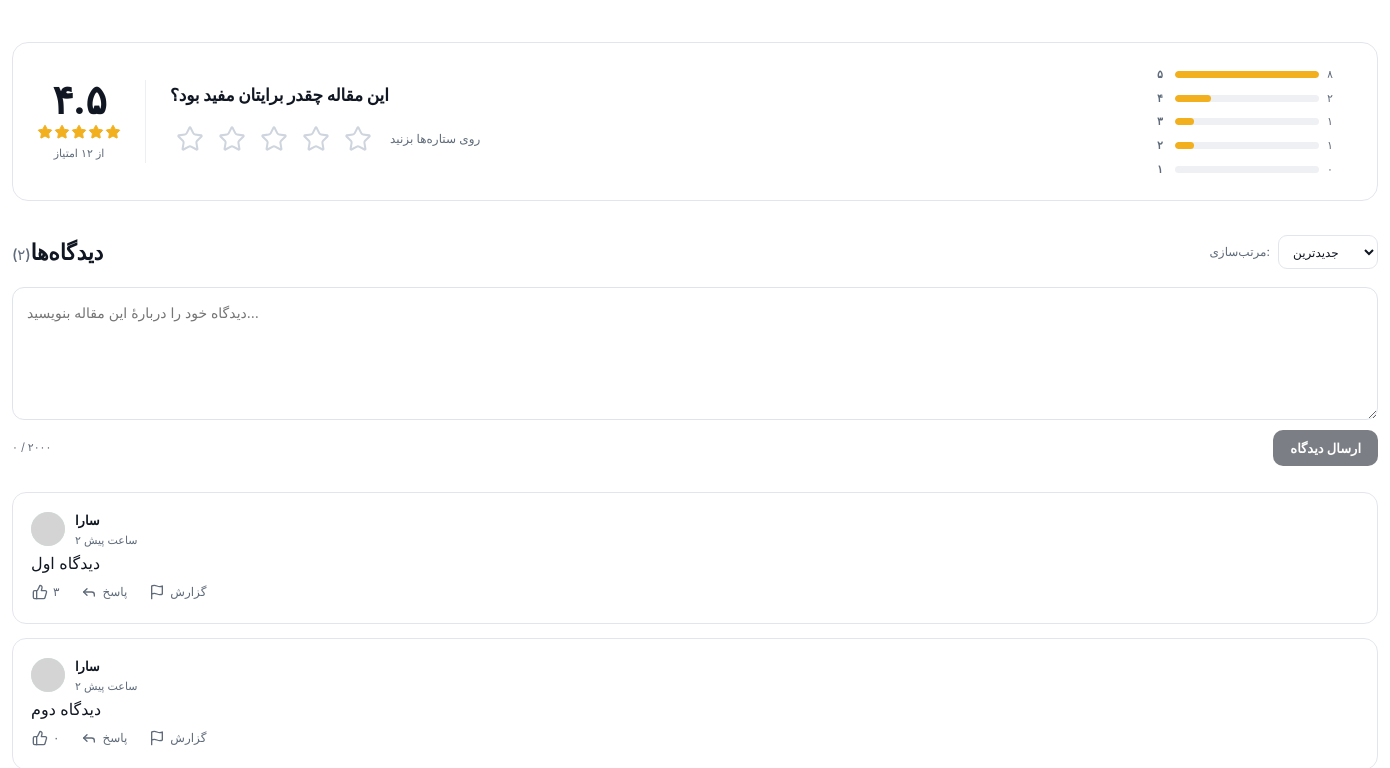
Scenario: ArticleEngagement — signed-in reader › switches to the barred state when the server answers 403 COMMENTS_BLOCKED
Type "سلام دنیا" into the text box at (695, 354), box [12, 287, 1378, 420]
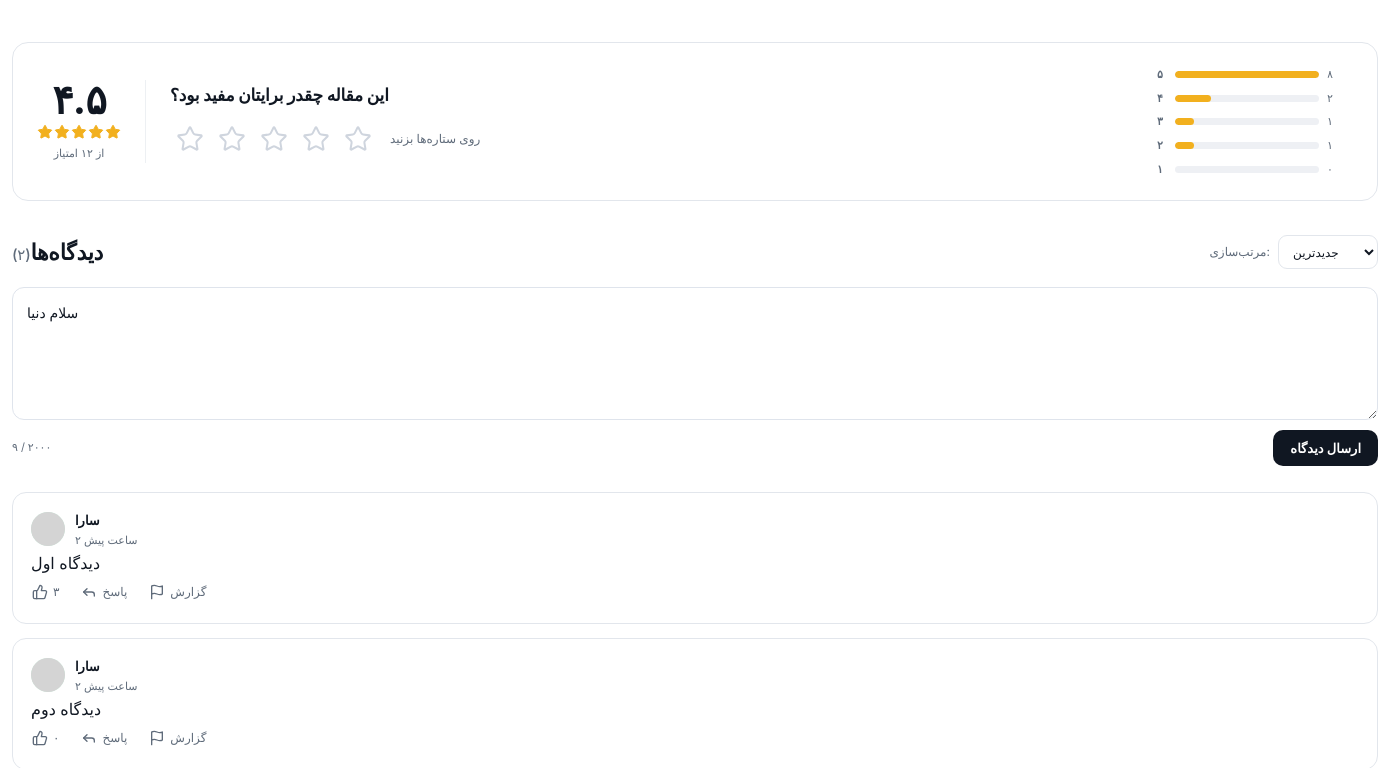
Submit the form with test id "blog-comment-form", box [12, 287, 1378, 466]
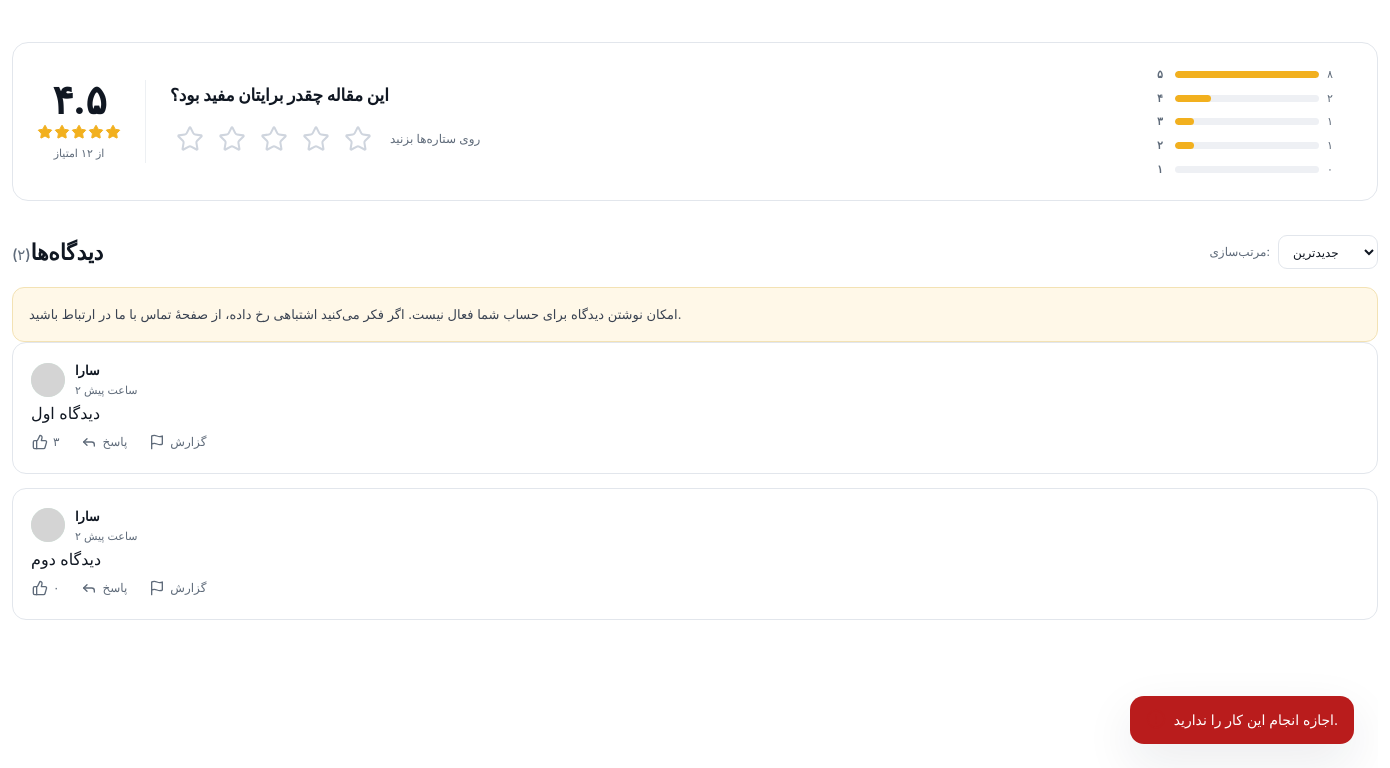
Check: the message with test id "blog-comments-blocked" is shown, box [12, 287, 1378, 342]
Check: the form with test id "blog-comment-form" is gone
